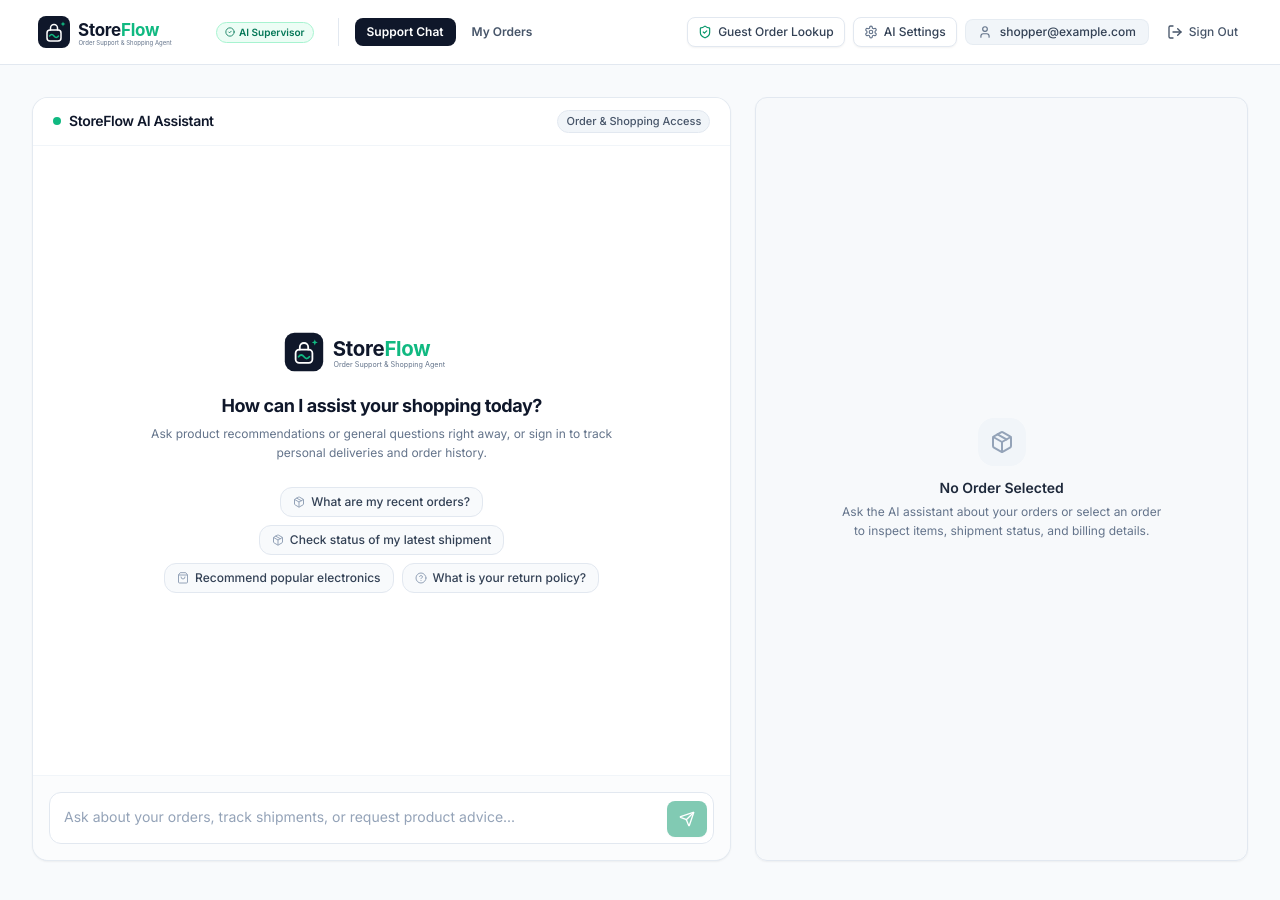
Phase 5: ChatContainer & Guest Question / Login Replay Flows › prompts login and resumes cleanly if session returns 401 while asking a question
This screenshot has width=1280, height=900.
Expected: the text "shopper@example.com" is shown, [1000,24,1136,40]
Replace the text in the text box named "Ask StoreFlow Assistant" with "Check ORD-77 status": {"x": 358, "y": 818} [56,799,659,837]
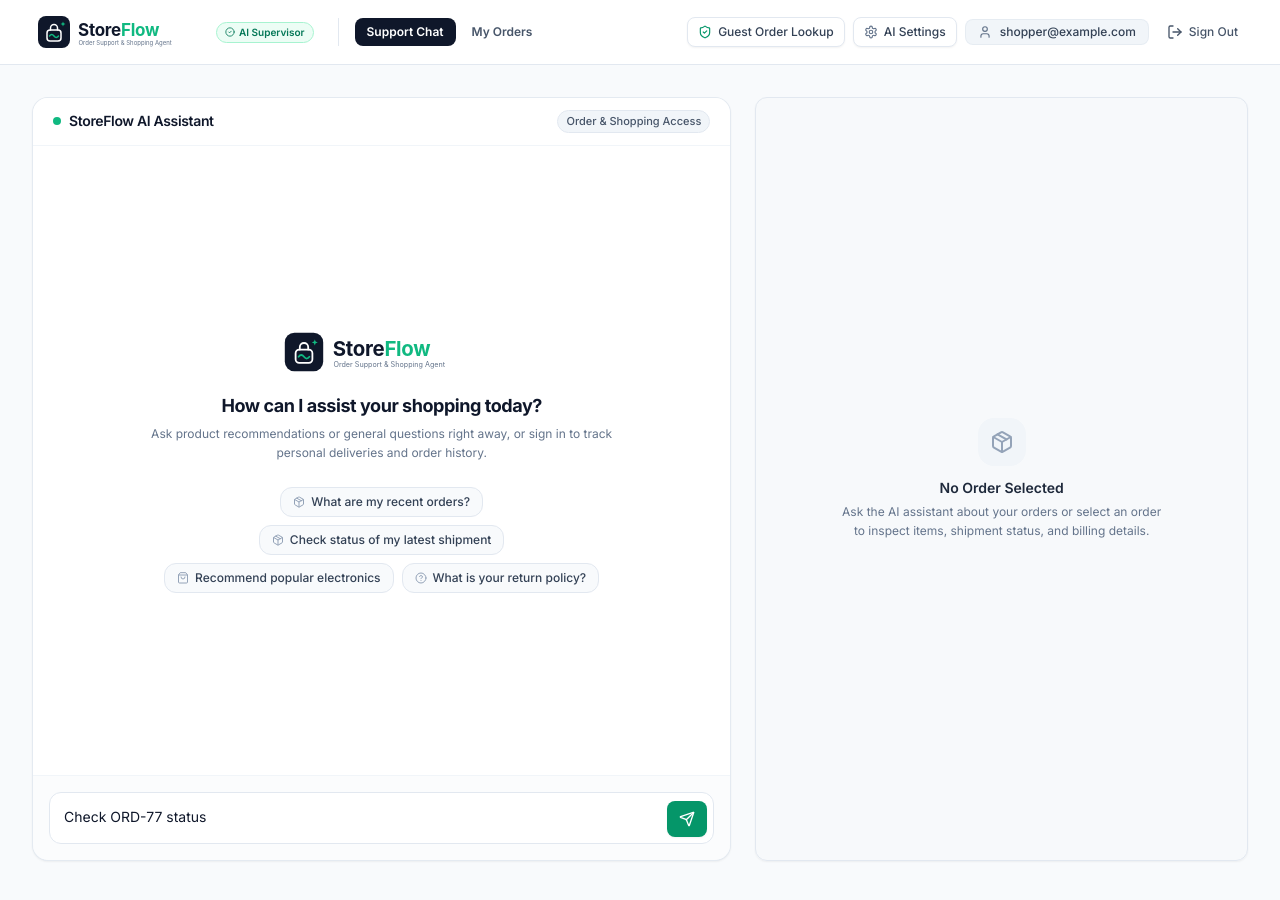
Click the button named "Send message": {"x": 687, "y": 819} [667,801,707,837]
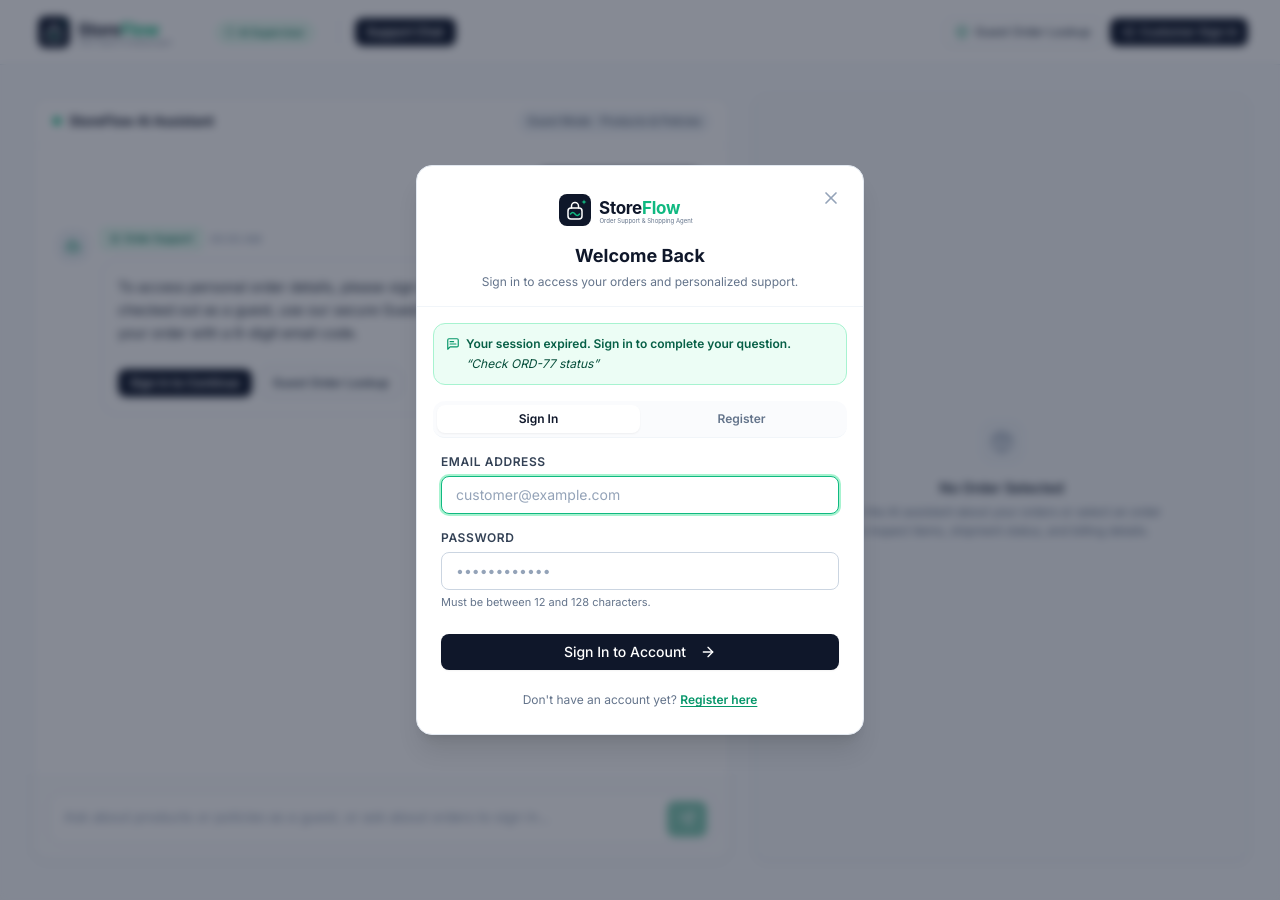
Expected: the dialog is shown, [416,165,864,735]
Expected: the text "Your session expired. Sign in to complete your question." is shown, [466,336,791,352]
In the field labelled "Email Address": {"x": 640, "y": 495} [441,476,839,514], type "shopper@example.com"
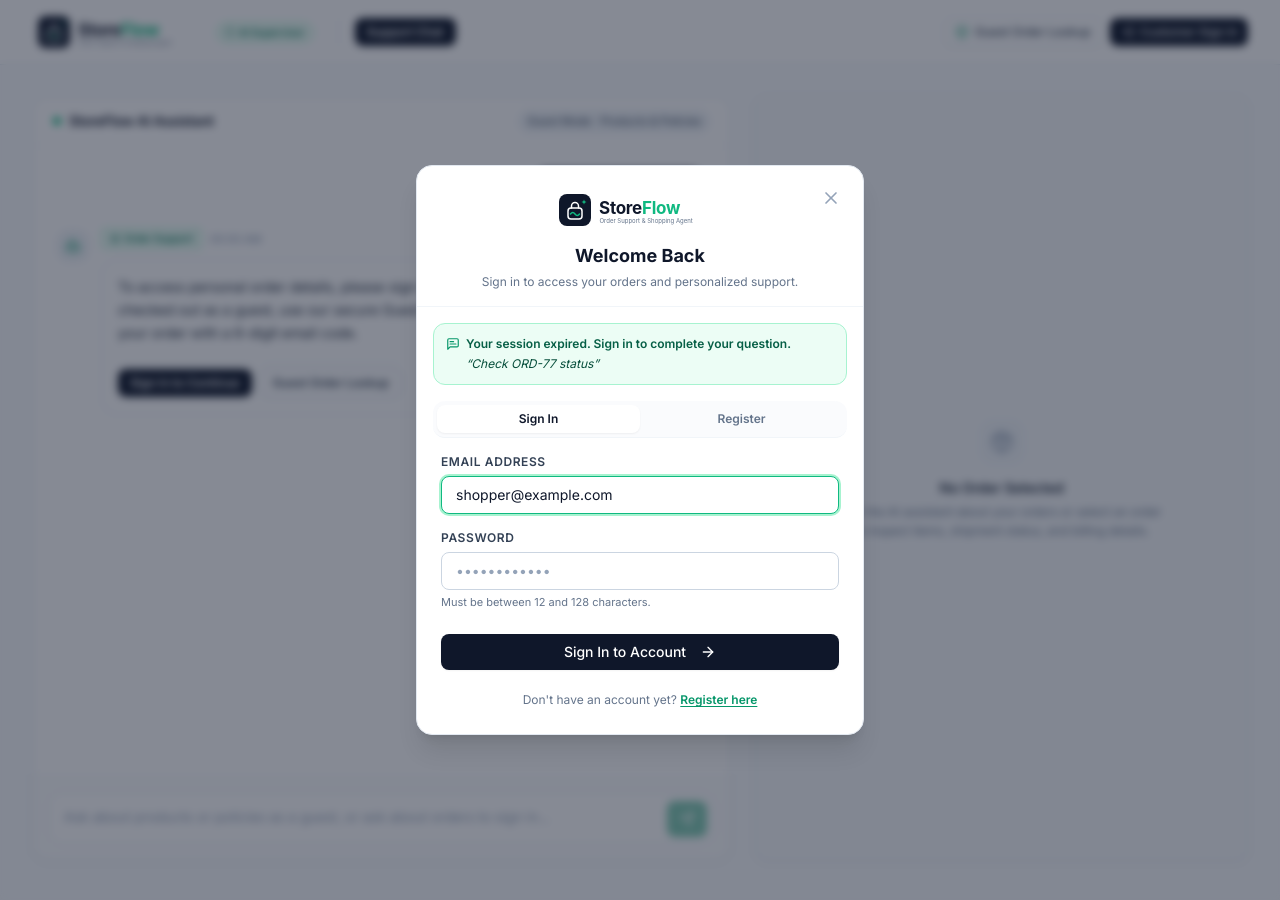
In the password field labelled "Password": {"x": 640, "y": 571} [441,552,839,590], type "ValidPassword1234!"
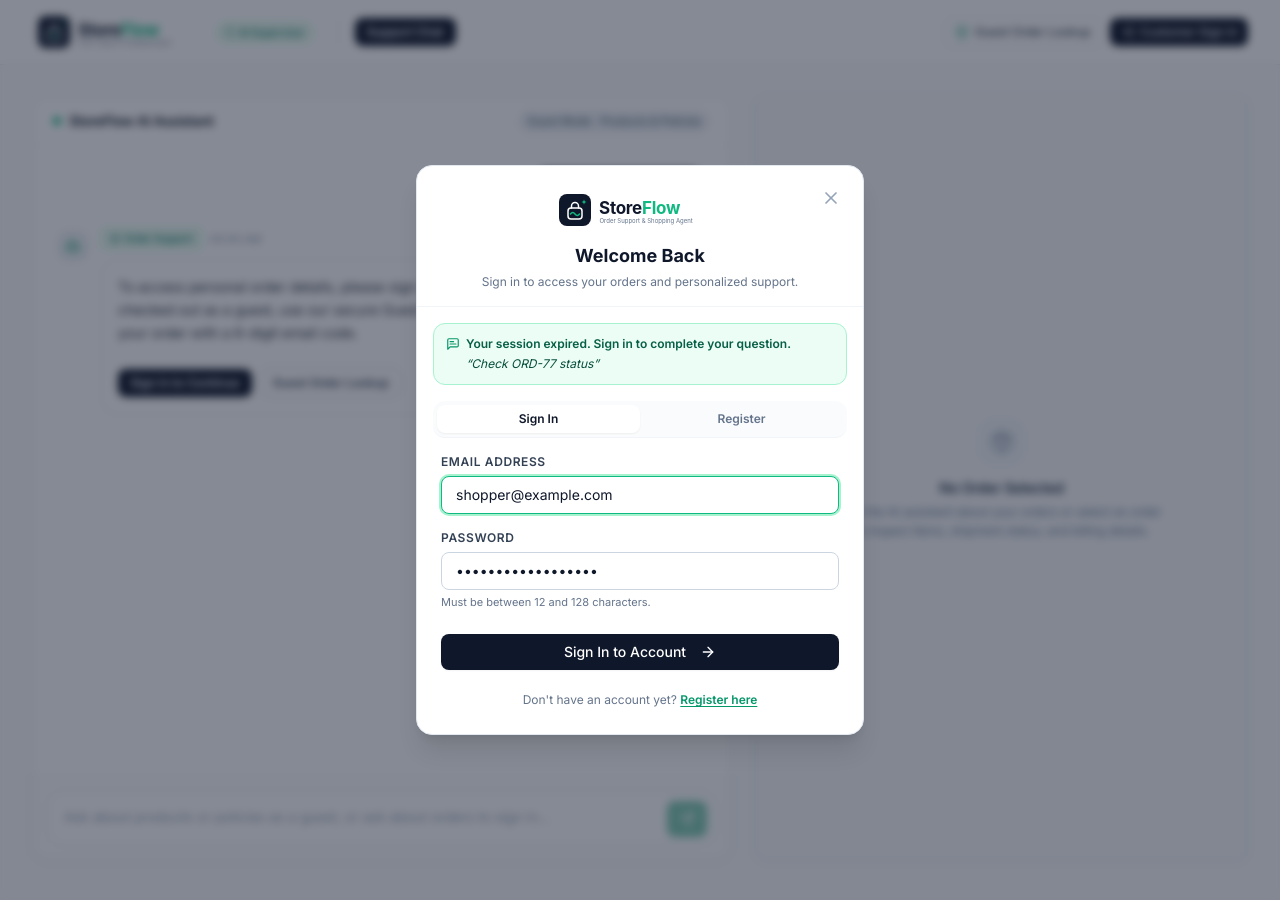
Click the button "Sign In to Account": {"x": 640, "y": 652} [441,634,839,670]
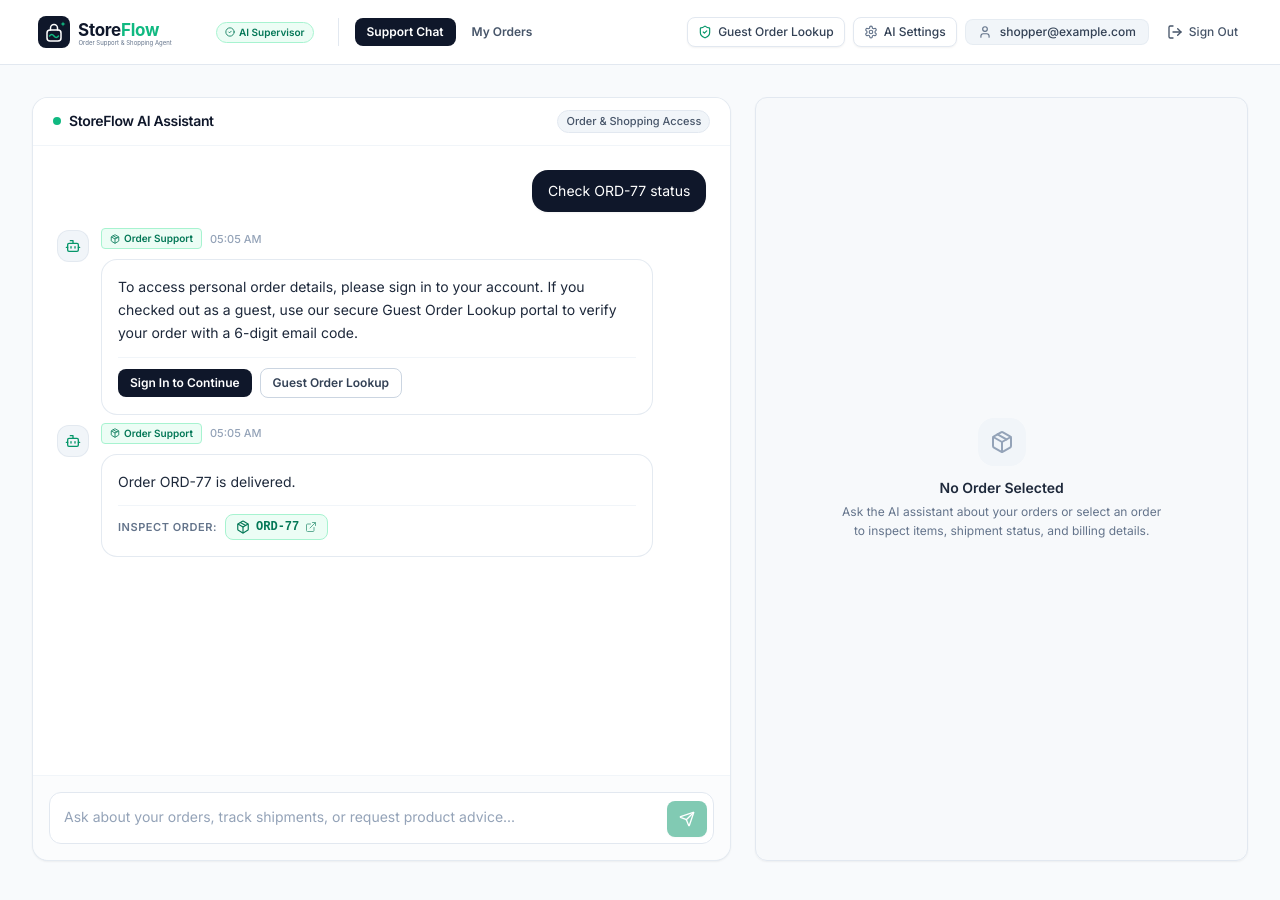
Expected: the text "Order ORD-77 is delivered." is shown, [118,472,296,490]
